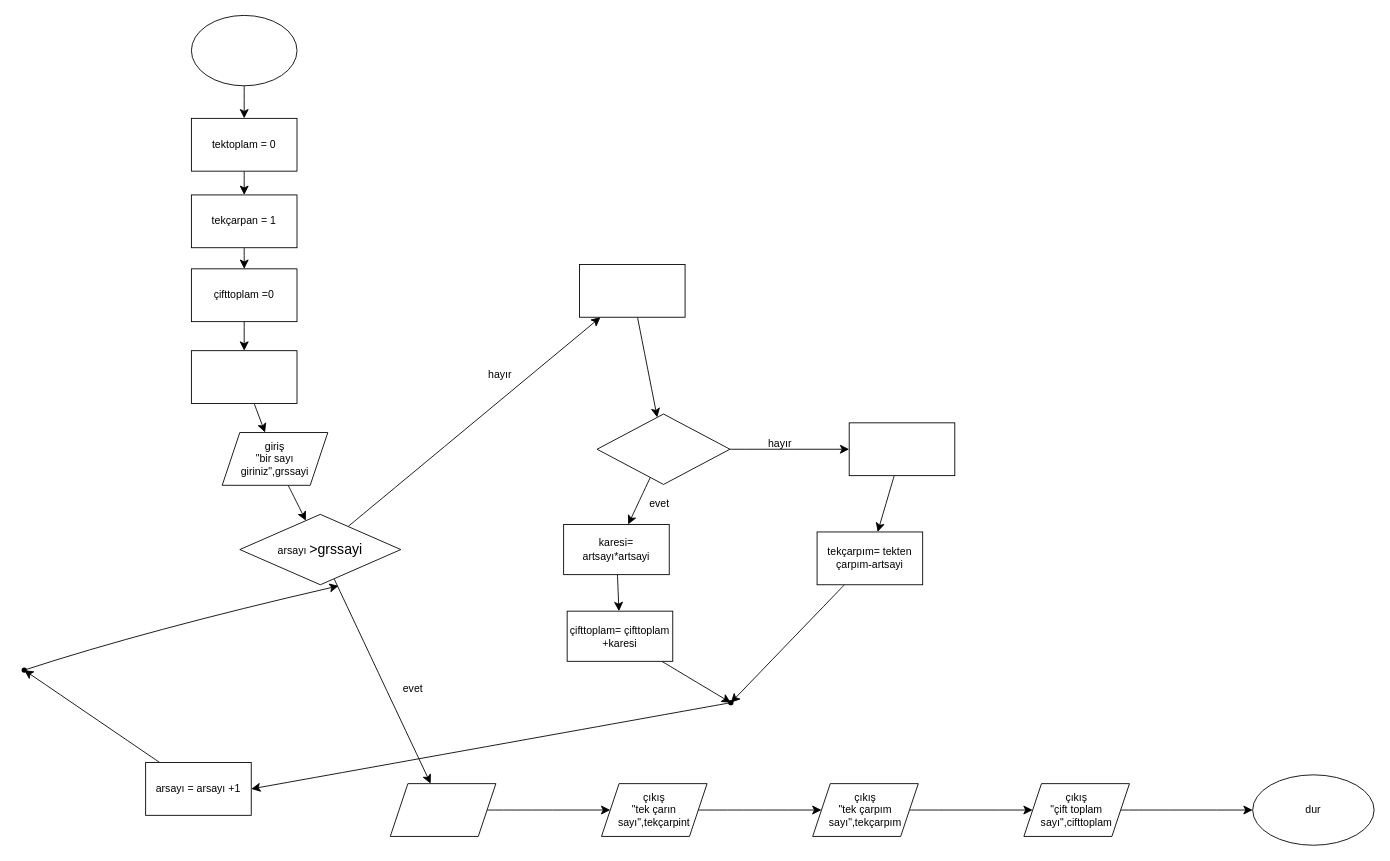
Some shapes in this 1390 by 861 pixel diagram are drawn without their labels. The shapes that lost their labels are listed below. From the top down, each one's box as (x1, y1, x2, y2) in pixels, then its label:
(191, 15, 297, 86): başla
(579, 264, 685, 317): kalan = arsayı %2
(191, 350, 297, 403): arsayı = 1
(596, 413, 730, 484): kalan = 0
(848, 422, 955, 476): tektoplam = tektoplam +artsayi
(389, 783, 496, 836): çıkış "tek toplam sayi", tektoplam
